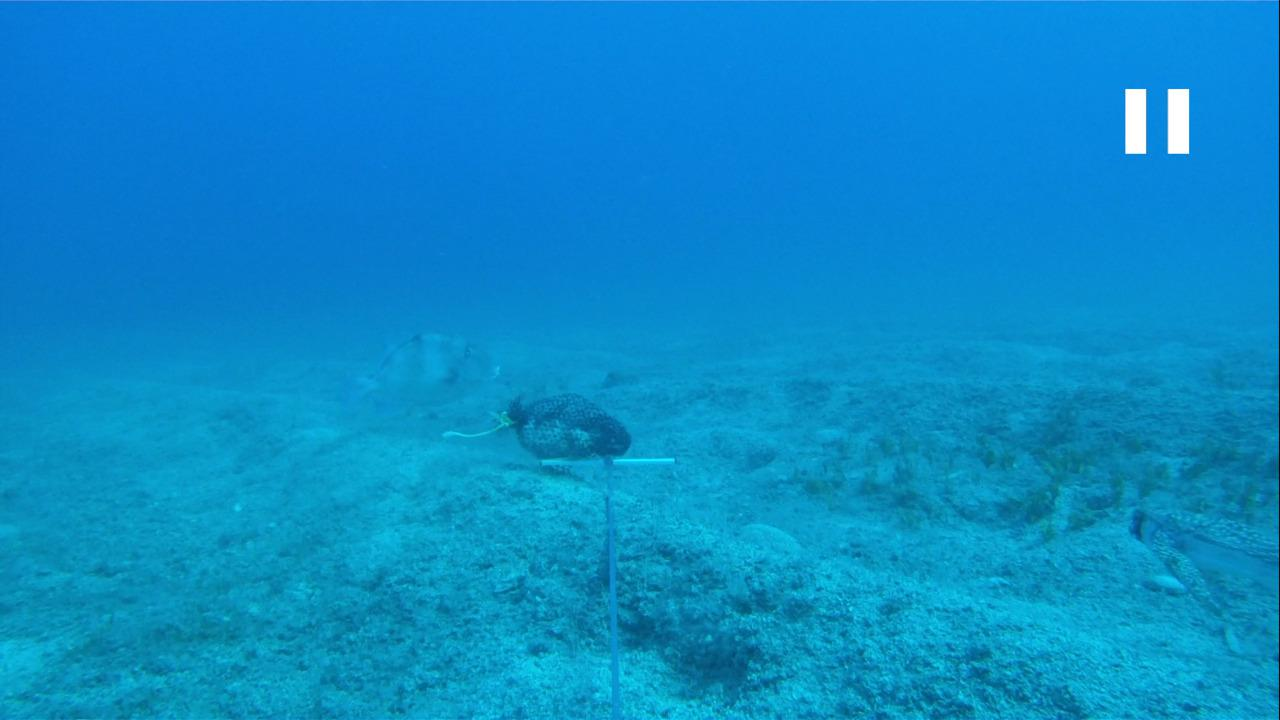balistes: (309, 322, 511, 430)
dactylopterus: (1119, 501, 1279, 666), (328, 325, 506, 419)
